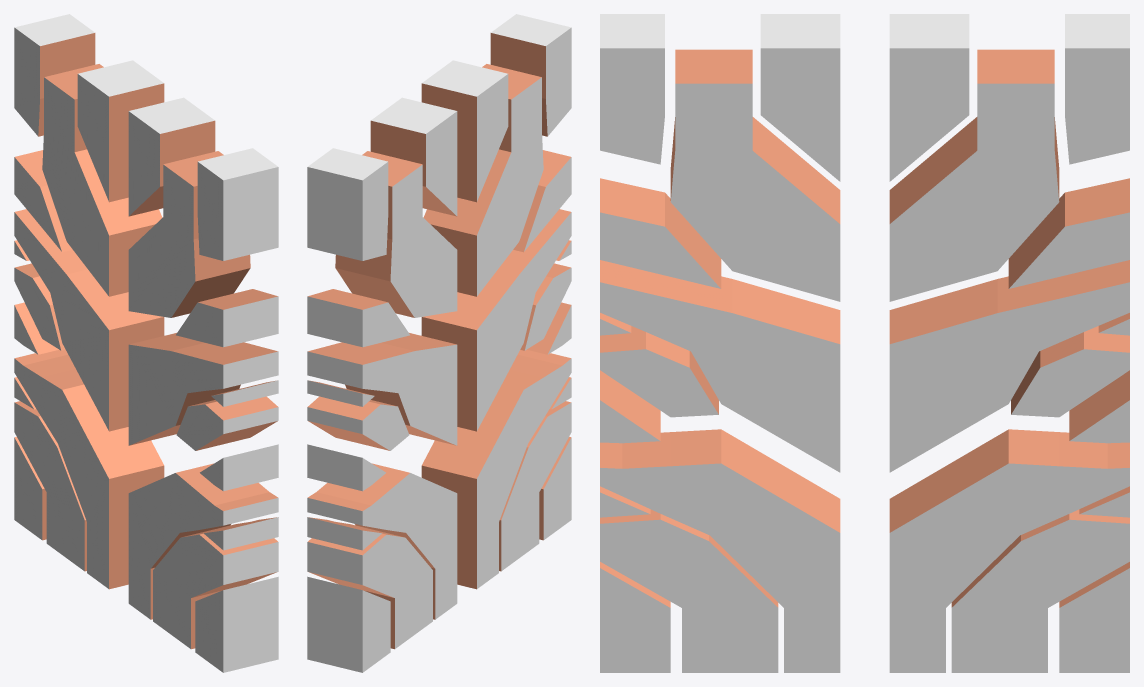
Rendered from door.fbx.
3 renders of one model, left to right at view 1: azimuth 30°, elevation 25°; view 2: azimuth 150°, elevation 25°; view 3: azimuth 270°, elevation 25°, orthographic. The views are drawn at different scales.
Parts seen in each view (by area): view 1: door_cropped1; view 2: door_cropped1; view 3: door_cropped1.
Boxes of the visible parts, x1,y1,x2,y2 form: door_cropped1: [14, 14, 278, 672]; door_cropped1: [307, 14, 571, 672]; door_cropped1: [600, 14, 1129, 672].
Size of the model in its own units: 496 by 4225 by 3248.
